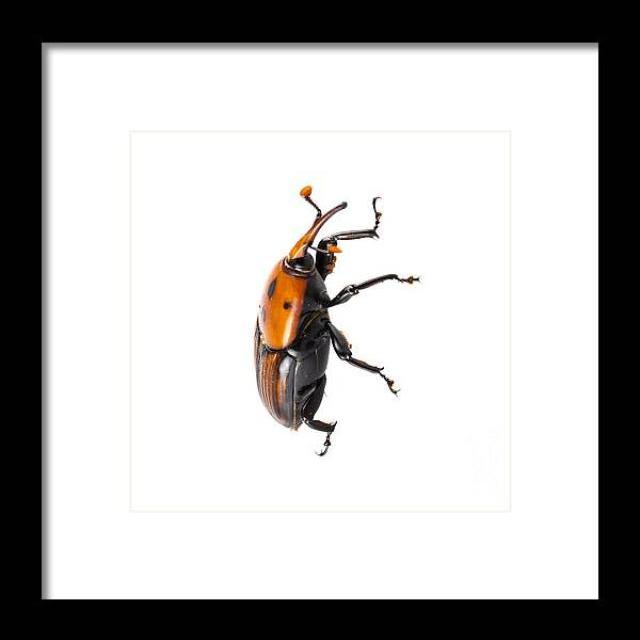Red-palm-weevil: (246, 177, 380, 463)
